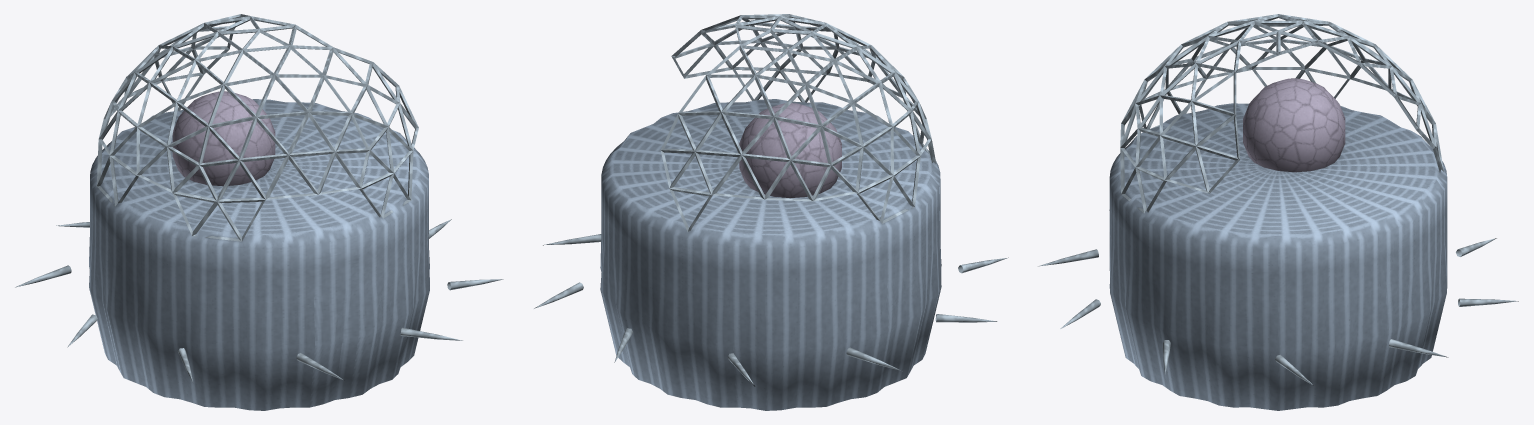
The model's file is rare_fallen_lattice.glb.
3 views of the same model, side by side, from view 1: azimuth 30°, elevation 25°; view 2: azimuth 150°, elevation 25°; view 3: azimuth 270°, elevation 25° (orthographic).
Parts seen in each view (by area): view 1: RareFallenLattice; view 2: RareFallenLattice; view 3: RareFallenLattice.
Part boxes in pixels (x1,y1,x2,y2): RareFallenLattice: [15, 14, 503, 410]; RareFallenLattice: [534, 14, 1008, 410]; RareFallenLattice: [1038, 14, 1518, 410].
Size of the model in its own units: 9.17 by 6.98 by 9.14.
3 materials, 3 textured.
